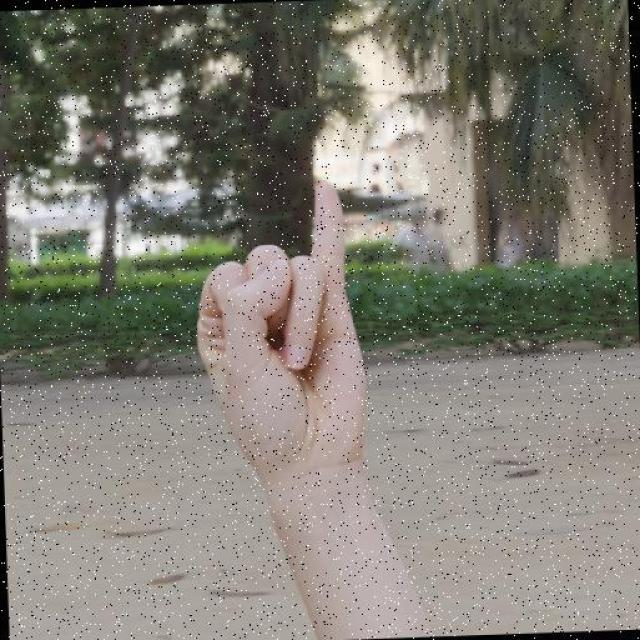I: (155, 146, 418, 586)
